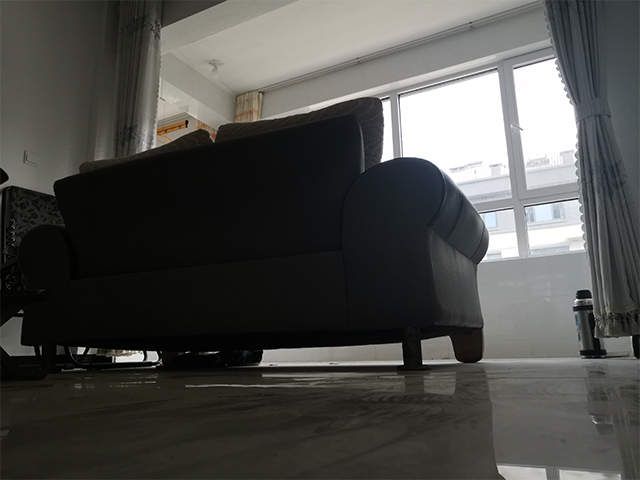curtain: (540, 1, 640, 339), (106, 1, 159, 153)
sofa: (15, 94, 492, 370)
